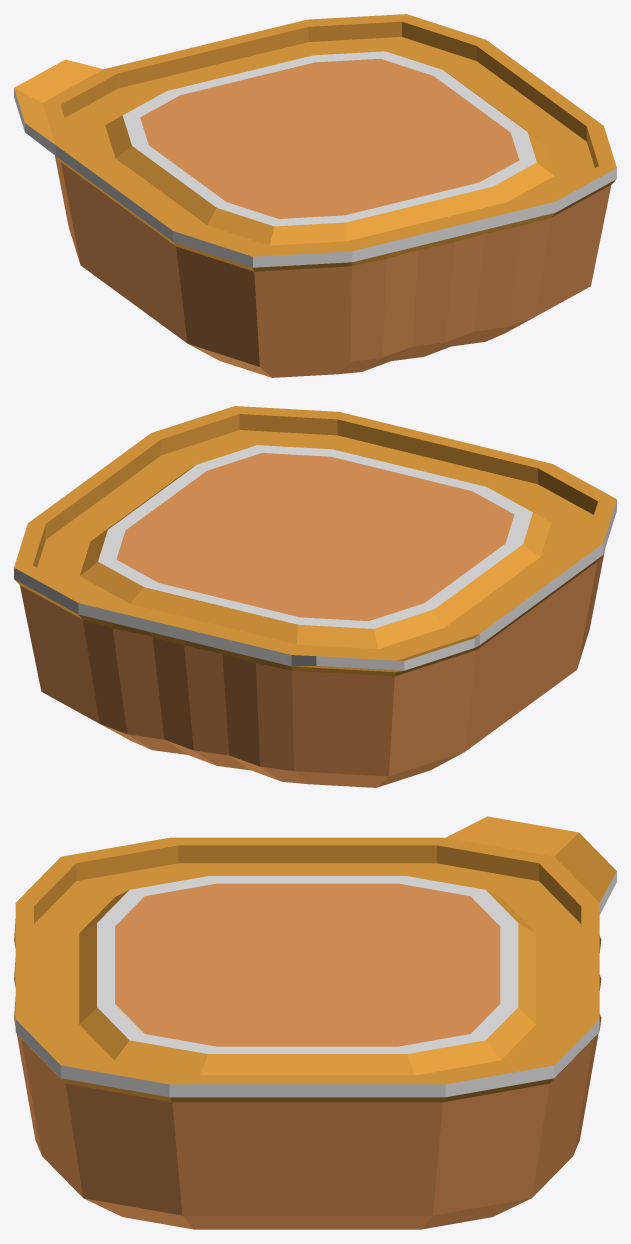
Rendered from suh paek 3.fbx.
3 views of the same model, one above another, from view 1: azimuth 30°, elevation 25°; view 2: azimuth 150°, elevation 25°; view 3: azimuth 270°, elevation 25° (orthographic). The views are drawn at different scales.
Parts seen in each view (by area): view 1: Cube; view 2: Cube; view 3: Cube.
Part boxes in pixels (box(x1,y1,x2,y2)): Cube: box(14, 14, 616, 377); Cube: box(14, 406, 616, 787); Cube: box(14, 816, 616, 1229).
Size of the model in its own units: 123 by 46.46 by 123.
